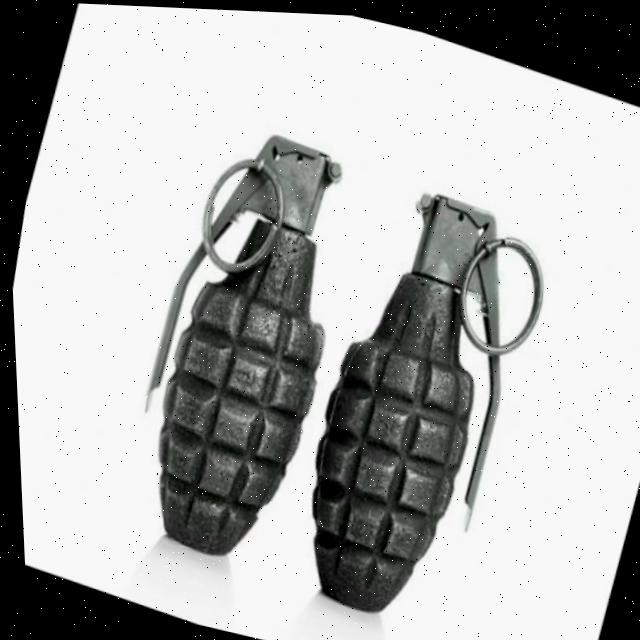grenade: (74, 40, 601, 640)
